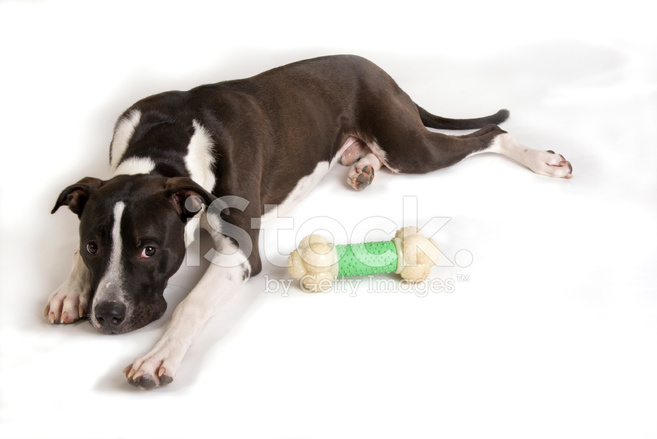am_pit_bull_terrier: (42, 53, 573, 390)
